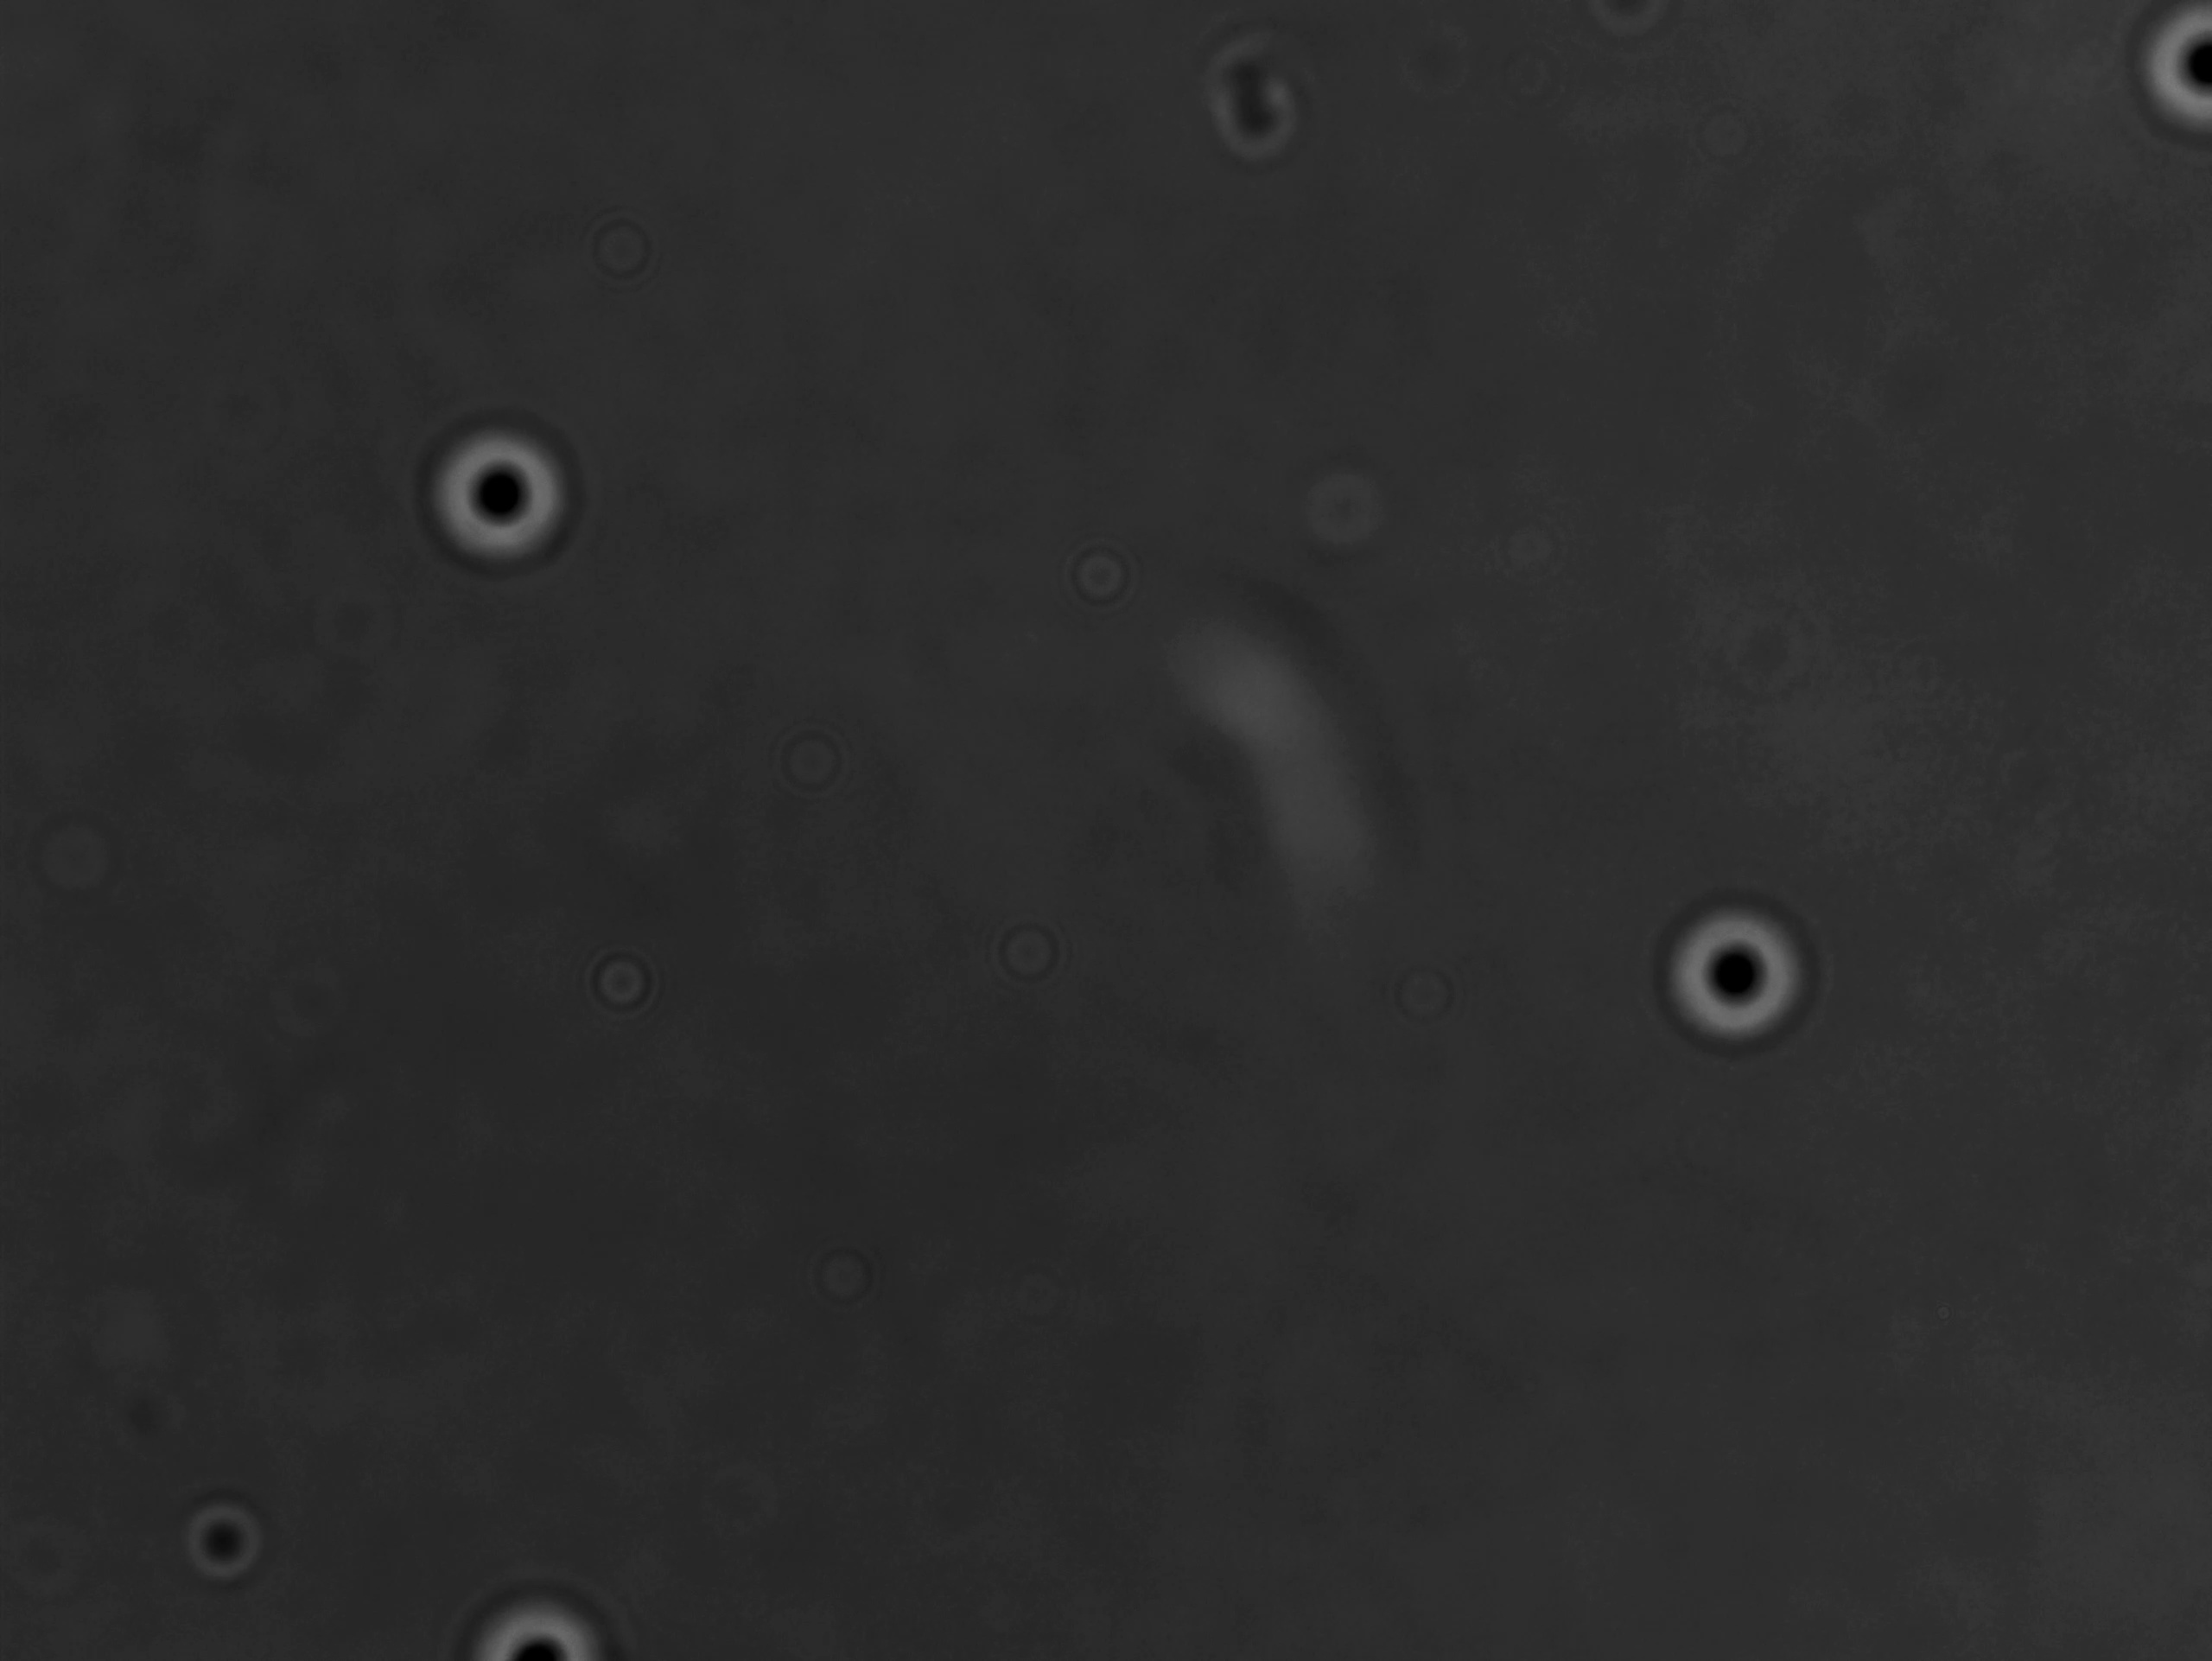depth:-40: (1642, 871, 1835, 1070), (419, 400, 598, 584)
